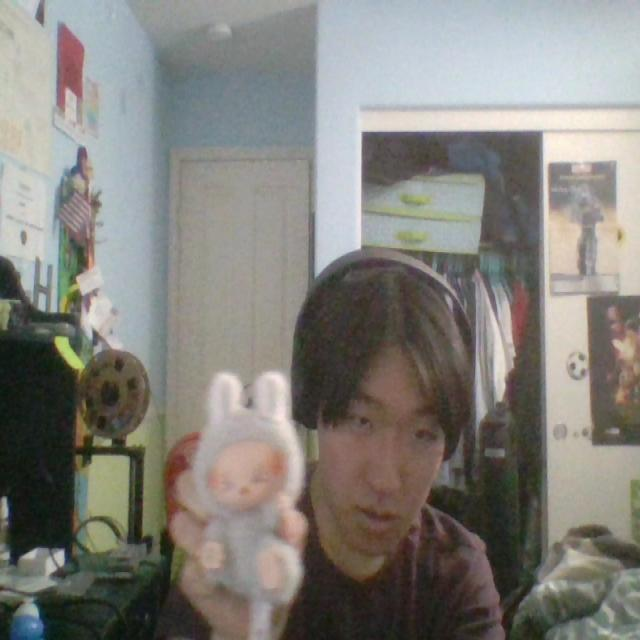labubu: (188, 371, 304, 639)
